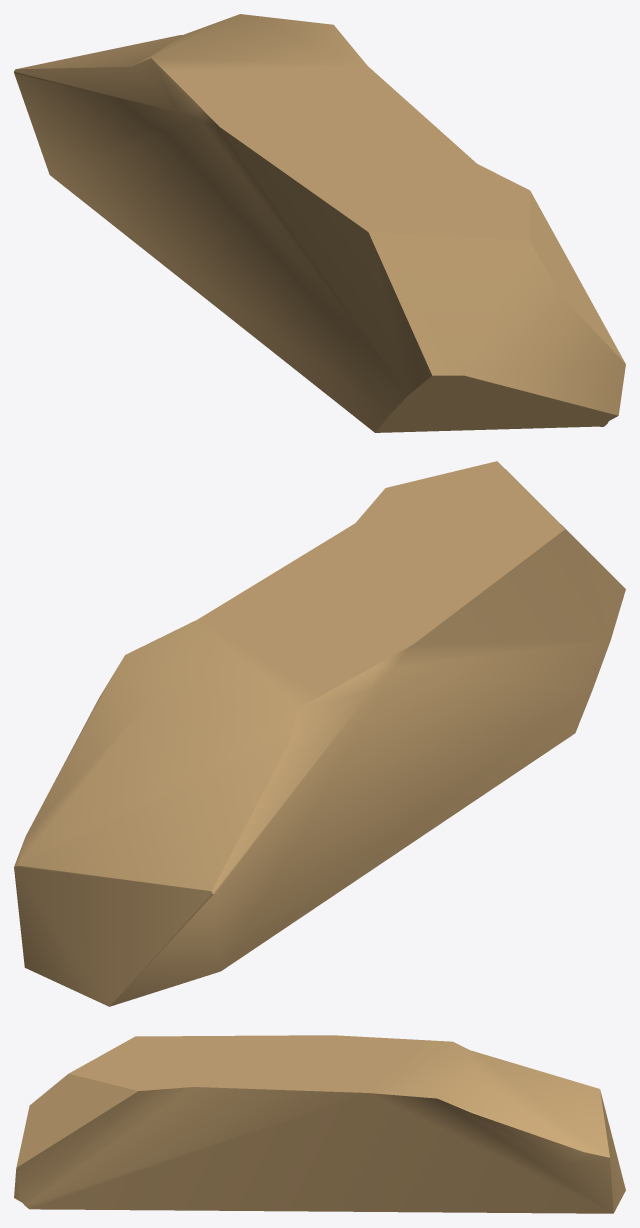
Rendered from BrokenRuin_Big_02.fbx.
The picture shows the model from 3 angles, top to bottom: view 1: azimuth 30°, elevation 25°; view 2: azimuth 150°, elevation 25°; view 3: azimuth 270°, elevation 25°; orthographic projection. The views are drawn at different scales.
Visible parts, largest first — view 1: BigChunk_03; view 2: BigChunk_03; view 3: BigChunk_03.
Part boxes in pixels (left/top/right/bottom): BigChunk_03: left=14, top=14, right=625, bottom=432; BigChunk_03: left=14, top=461, right=625, bottom=1006; BigChunk_03: left=14, top=1035, right=625, bottom=1213.
Size of the model in its own units: 250 by 231 by 964.
